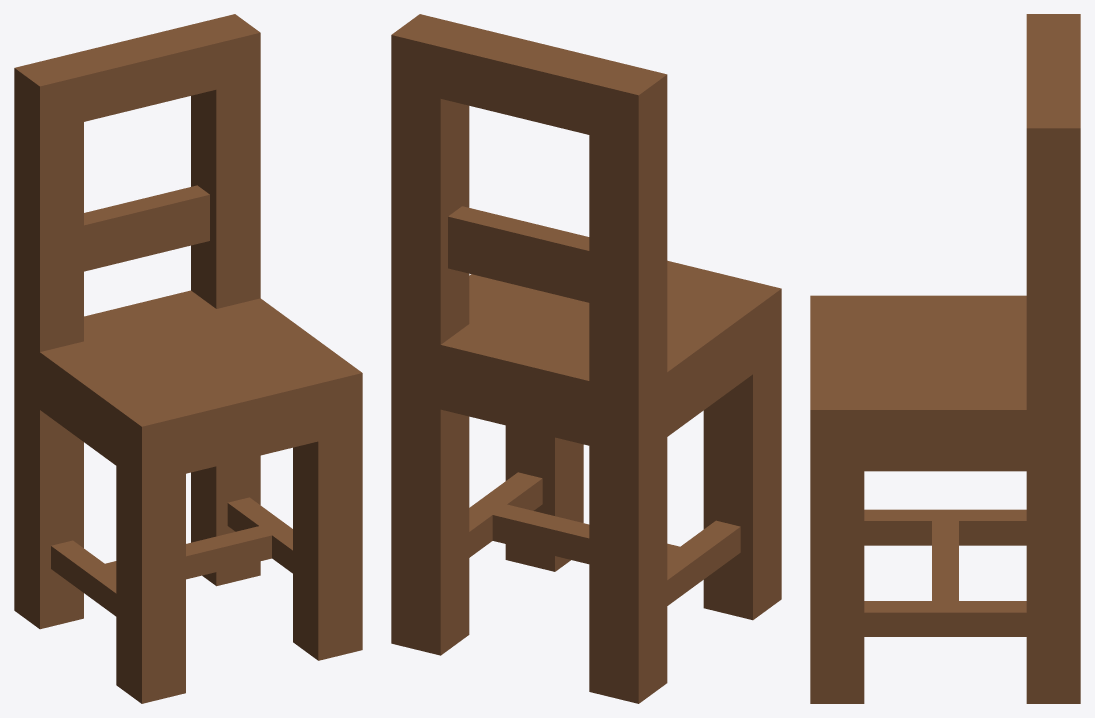
The model's file is m_chair.glb.
3 renders of one model, left to right at view 1: azimuth 30°, elevation 25°; view 2: azimuth 150°, elevation 25°; view 3: azimuth 270°, elevation 25°, orthographic. The views are drawn at different scales.
Parts seen in each view (by area): view 1: chair(Clone); view 2: chair(Clone); view 3: chair(Clone).
Part boxes in pixels (x1=…): chair(Clone): x1=14, y1=14, x2=362, y2=703; chair(Clone): x1=391, y1=14, x2=781, y2=703; chair(Clone): x1=810, y1=14, x2=1080, y2=703.
Bounding box in the file's own units: 0.4043 × 0.95 × 0.4043.
